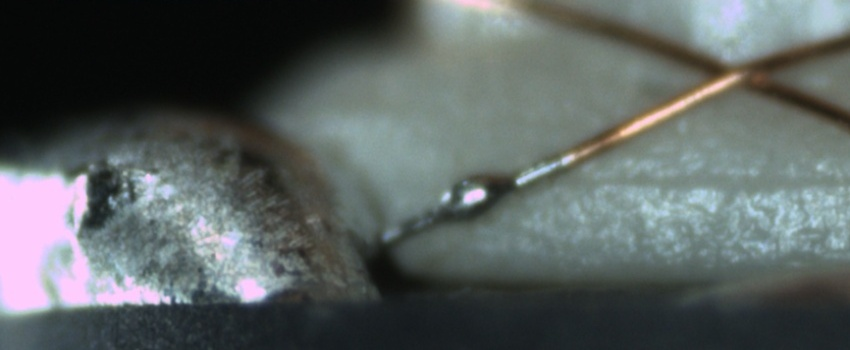CL: (673, 42, 802, 101)
DL: (586, 150, 850, 210)
TB: (438, 172, 514, 221)
TS: (375, 150, 571, 251)
TTCW: (369, 128, 620, 252)
